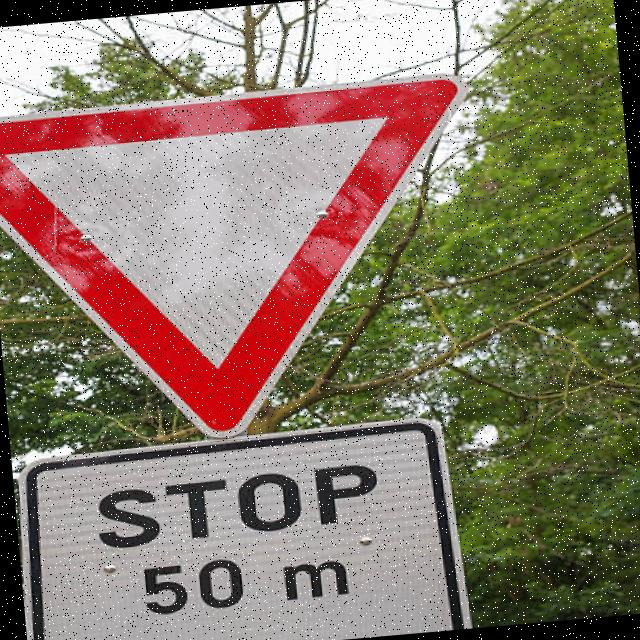give_way: (0, 58, 495, 452)
